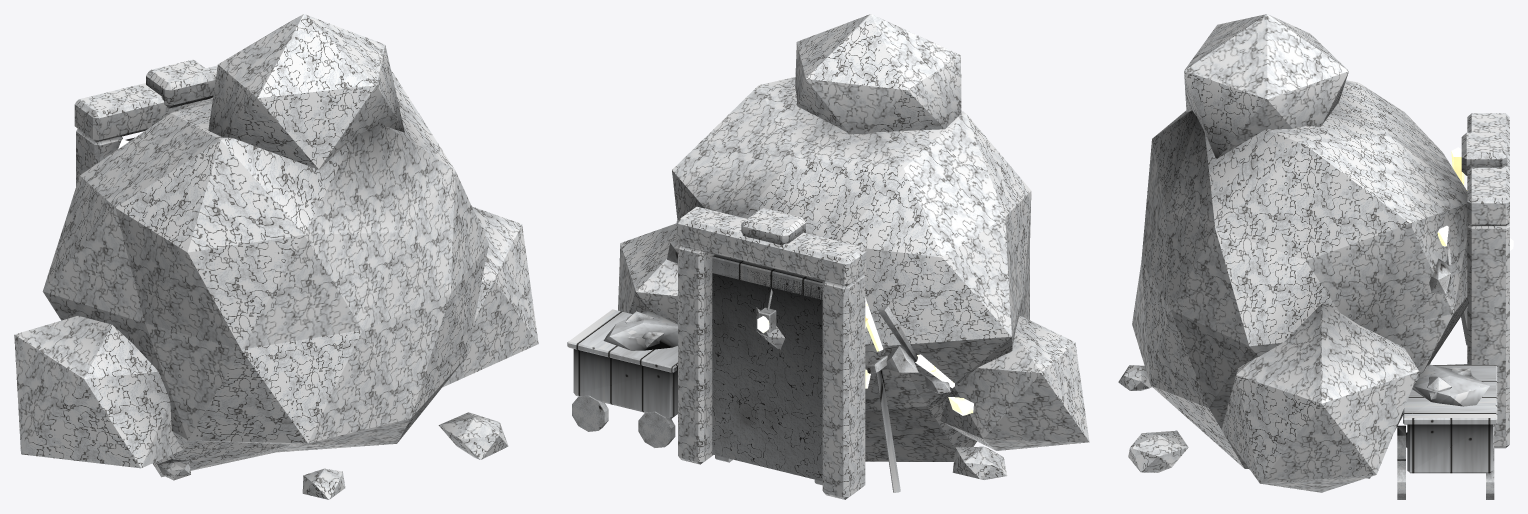
3 views of the same model, side by side, from view 1: azimuth 30°, elevation 25°; view 2: azimuth 150°, elevation 25°; view 3: azimuth 270°, elevation 25° (orthographic). The views are drawn at different scales.
Visible parts, largest first — view 1: goldmine_M_rock, goldmine_M_rock_dark; view 2: goldmine_M_rock, goldmine_M_rock_dark, goldmine_M_cavity, goldmine_M_wood, goldmine_M_wood_dark, goldmine_M_iron, goldmine_M_gold, goldmine_M_ore, goldmine_M_gold_glow; view 3: goldmine_M_rock, goldmine_M_rock_dark, goldmine_M_wood_dark, goldmine_M_wood, goldmine_M_ore, goldmine_M_gold, goldmine_M_iron, goldmine_M_gold_glow.
Part boxes in pixels (left/top/right/bottom): goldmine_M_rock: left=42, top=14, right=488, bottom=477; goldmine_M_rock_dark: left=14, top=65, right=538, bottom=499; goldmine_M_rock: left=672, top=14, right=1031, bottom=461; goldmine_M_rock_dark: left=618, top=206, right=1089, bottom=499; goldmine_M_cavity: left=712, top=263, right=822, bottom=481; goldmine_M_wood: left=567, top=254, right=900, bottom=492; goldmine_M_wood_dark: left=573, top=349, right=822, bottom=485; goldmine_M_iron: left=572, top=307, right=887, bottom=447; goldmine_M_gold: left=625, top=239, right=950, bottom=393; goldmine_M_ore: left=603, top=310, right=677, bottom=350; goldmine_M_gold_glow: left=688, top=212, right=973, bottom=415; goldmine_M_rock: left=1132, top=14, right=1507, bottom=478; goldmine_M_rock_dark: left=1118, top=113, right=1509, bottom=492; goldmine_M_wood_dark: left=1407, top=424, right=1492, bottom=473; goldmine_M_wood: left=1403, top=307, right=1497, bottom=424; goldmine_M_ore: left=1412, top=364, right=1489, bottom=406; goldmine_M_gold: left=1427, top=248, right=1472, bottom=399; goldmine_M_iron: left=1397, top=425, right=1494, bottom=499; goldmine_M_gold_glow: left=1437, top=147, right=1513, bottom=250.
Size of the model in its own units: 3.89 by 3.3 by 2.77.
10 materials, 10 textured.
